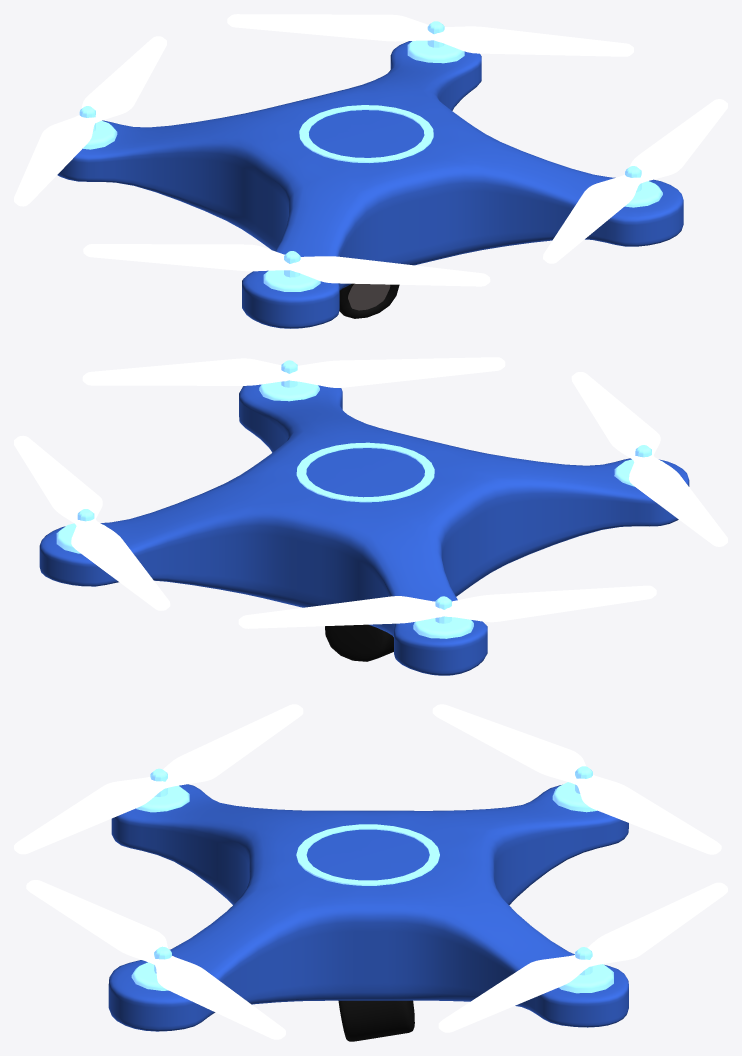
The model's file is drone.gltf.
The picture shows the model from 3 angles, top to bottom: view 1: azimuth 30°, elevation 25°; view 2: azimuth 150°, elevation 25°; view 3: azimuth 270°, elevation 25°; orthographic projection. The views are drawn at different scales.
Parts seen in each view (by area): view 1: body, prop_2, prop_1, prop, prop_3, Cylinder_2, Ellipse_3_1, Ellipse, Ellipse_5_1, Cube, Ellipse_4_1, Ellipse_1; view 2: body, prop, prop_3, prop_2, prop_1, Cylinder_2, Cube, Ellipse_1, Ellipse_4_1; view 3: body, prop_3, prop_2, prop_1, prop, Cube, Cylinder_2, Ellipse_3_1, Ellipse_5_1, Ellipse_1, Ellipse_4_1.
Boxes of the visible parts, x1,y1,x2,y2 form: body: [57, 41, 683, 328]; prop_2: [227, 14, 633, 56]; prop_1: [83, 244, 490, 286]; prop: [543, 99, 727, 263]; prop_3: [14, 36, 166, 206]; Cylinder_2: [299, 105, 433, 162]; Ellipse_3_1: [407, 40, 464, 63]; Ellipse: [348, 283, 390, 310]; Ellipse_5_1: [263, 270, 320, 291]; Cube: [339, 283, 399, 318]; Ellipse_4_1: [625, 181, 662, 207]; Ellipse_1: [83, 120, 117, 149]; body: [39, 384, 689, 675]; prop: [82, 357, 505, 387]; prop_3: [238, 585, 656, 628]; prop_2: [14, 435, 170, 610]; prop_1: [571, 372, 727, 546]; Cylinder_2: [296, 442, 434, 502]; Cube: [325, 624, 393, 661]; Ellipse_1: [413, 617, 473, 638]; Ellipse_4_1: [259, 381, 319, 401]; body: [108, 784, 628, 1031]; prop_3: [432, 704, 721, 854]; prop_2: [438, 882, 727, 1032]; prop_1: [14, 704, 303, 854]; prop: [26, 880, 285, 1039]; Cube: [338, 1000, 414, 1041]; Cylinder_2: [296, 824, 439, 885]; Ellipse_3_1: [558, 964, 613, 993]; Ellipse_5_1: [136, 785, 189, 812]; Ellipse_1: [552, 782, 597, 812]; Ellipse_4_1: [131, 962, 168, 990].
Size of the model in its own units: 2.33 by 0.6178 by 2.14.
